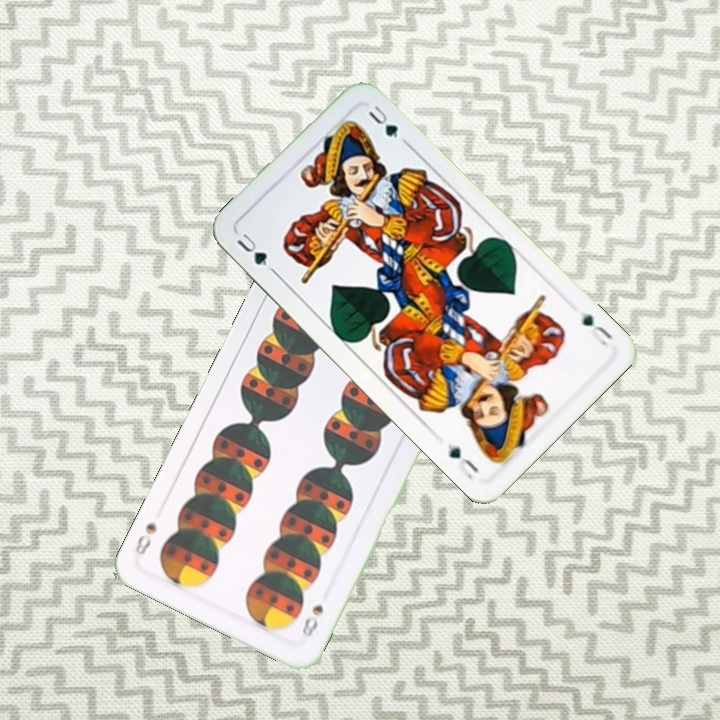GU: (232, 227, 278, 276), (577, 310, 615, 348)
S8: (297, 600, 326, 642)
